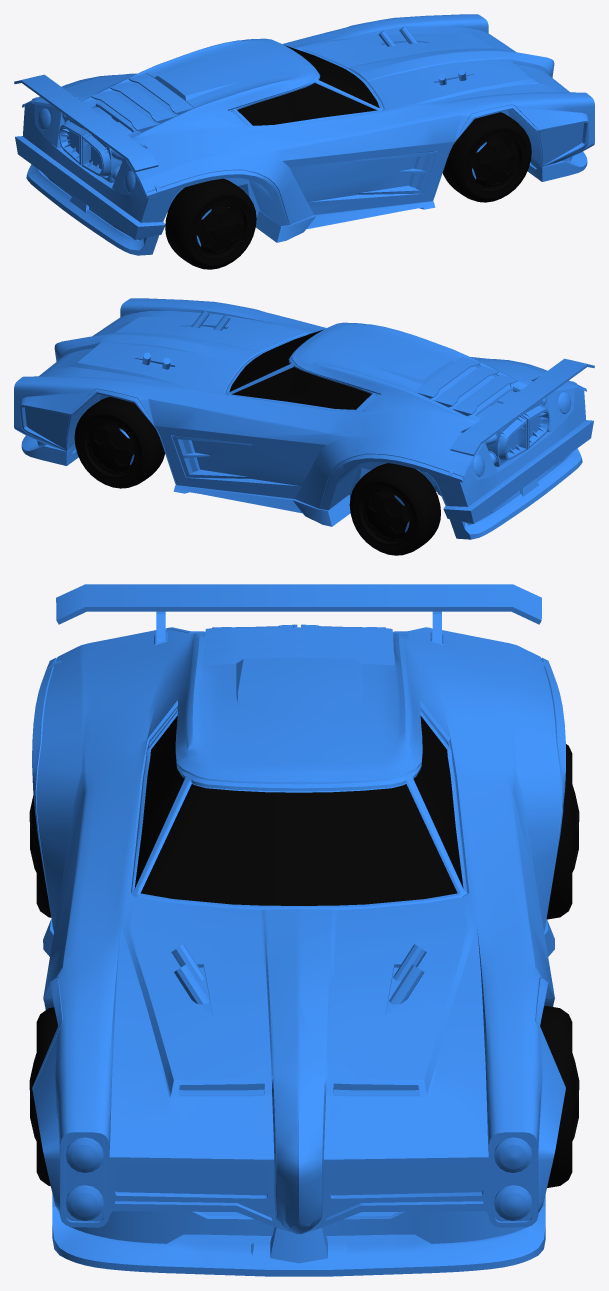
Rendered from car7 (2).fbx.
3 renders of one model, top to bottom at view 1: azimuth 30°, elevation 25°; view 2: azimuth 150°, elevation 25°; view 3: azimuth 270°, elevation 25°, orthographic. The views are drawn at different scales.
Parts seen in each view (by area): view 1: Dominus_Dominus Body_0, Cristiano - FL (Dominus)_Tread_0.003, Cristiano - FL (Dominus)_Tread_0.002; view 2: Dominus_Dominus Body_0, Cristiano - FL (Dominus)_Tread_0.001, Cristiano - FL (Dominus)_Tread_0; view 3: Dominus_Dominus Body_0, Cristiano - FL (Dominus)_Tread_0, Cristiano - FL (Dominus)_Tread_0.001, Cristiano - FL (Dominus)_Tread_0.002, Cristiano - FL (Dominus)_Tread_0.003.
Boxes of the visible parts, x1,y1,x2,y2 form: Dominus_Dominus Body_0: (14, 14, 594, 255); Cristiano - FL (Dominus)_Tread_0.003: (165, 178, 256, 269); Cristiano - FL (Dominus)_Tread_0.002: (442, 112, 531, 202); Dominus_Dominus Body_0: (14, 298, 594, 539); Cristiano - FL (Dominus)_Tread_0.001: (349, 463, 440, 555); Cristiano - FL (Dominus)_Tread_0: (74, 396, 165, 488); Dominus_Dominus Body_0: (32, 584, 565, 1276); Cristiano - FL (Dominus)_Tread_0: (540, 1006, 579, 1187); Cristiano - FL (Dominus)_Tread_0.001: (546, 744, 579, 919); Cristiano - FL (Dominus)_Tread_0.002: (29, 1007, 57, 1186); Cristiano - FL (Dominus)_Tread_0.003: (29, 795, 51, 917).
Bounding box in the file's own units: 15117 × 4141 × 7456.
